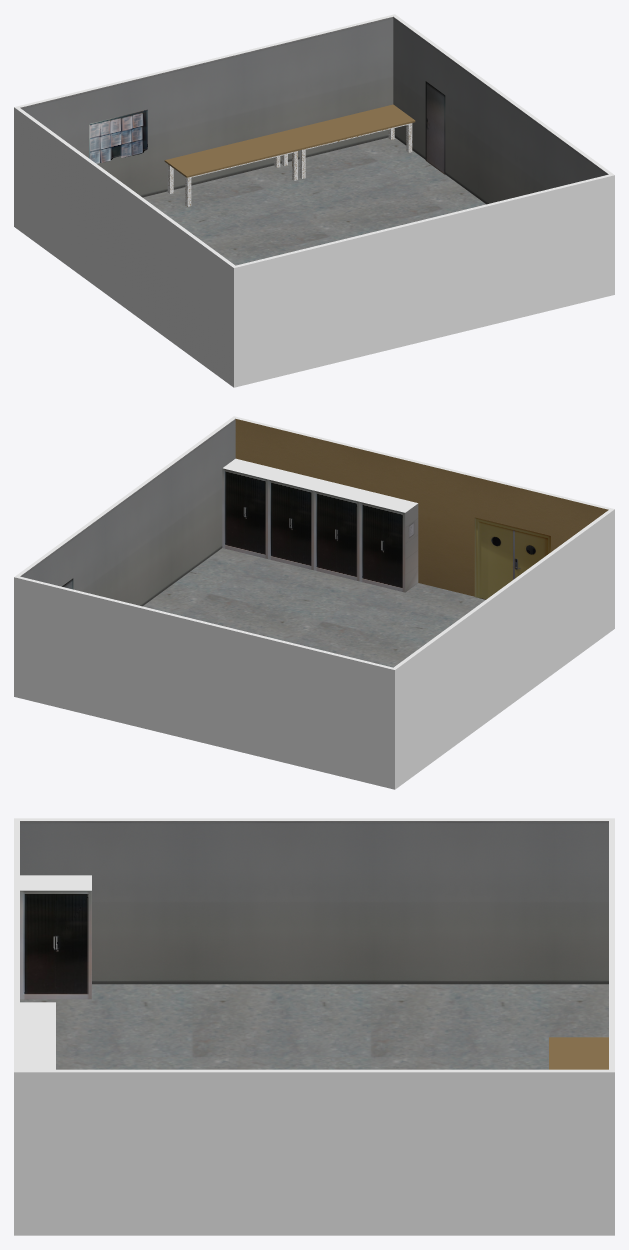
The picture shows the model from 3 angles, top to bottom: view 1: azimuth 30°, elevation 25°; view 2: azimuth 150°, elevation 25°; view 3: azimuth 270°, elevation 25°; orthographic projection. The views are drawn at different scales.
Parts seen in each view (by area): view 1: SketchUp (×3), instance_9 (×2), instance_8 (×2), instance_1, instance_2; view 2: SketchUp (×4), instance_6 (×3), instance_4 (×2), instance_5 (×2), instance_3 (×2), instance_0; view 3: SketchUp (×3), instance_7 (×2), instance_9, instance_5, instance_6.
Boxes of the visible parts, box(x1,y1,x2,y2) form: SketchUp (×3): box(14, 14, 614, 387); instance_9 (×2): box(164, 132, 300, 206); instance_8 (×2): box(279, 104, 415, 178); instance_1: box(89, 109, 147, 163); instance_2: box(425, 81, 445, 174); SketchUp (×4): box(14, 416, 614, 789); instance_6 (×3): box(359, 492, 418, 592); instance_4 (×2): box(268, 470, 326, 570); instance_5 (×2): box(314, 481, 372, 581); instance_3 (×2): box(222, 458, 280, 558); instance_0: box(474, 517, 550, 599); SketchUp (×3): box(14, 818, 614, 1235); instance_7 (×2): box(20, 875, 91, 999); instance_9: box(549, 1037, 608, 1069); instance_5: box(20, 1032, 55, 1063); instance_6: box(20, 1002, 55, 1032).
Bounding box in the file's own units: 394 × 394 × 118.
Materials: 10 (8 with a texture image).
